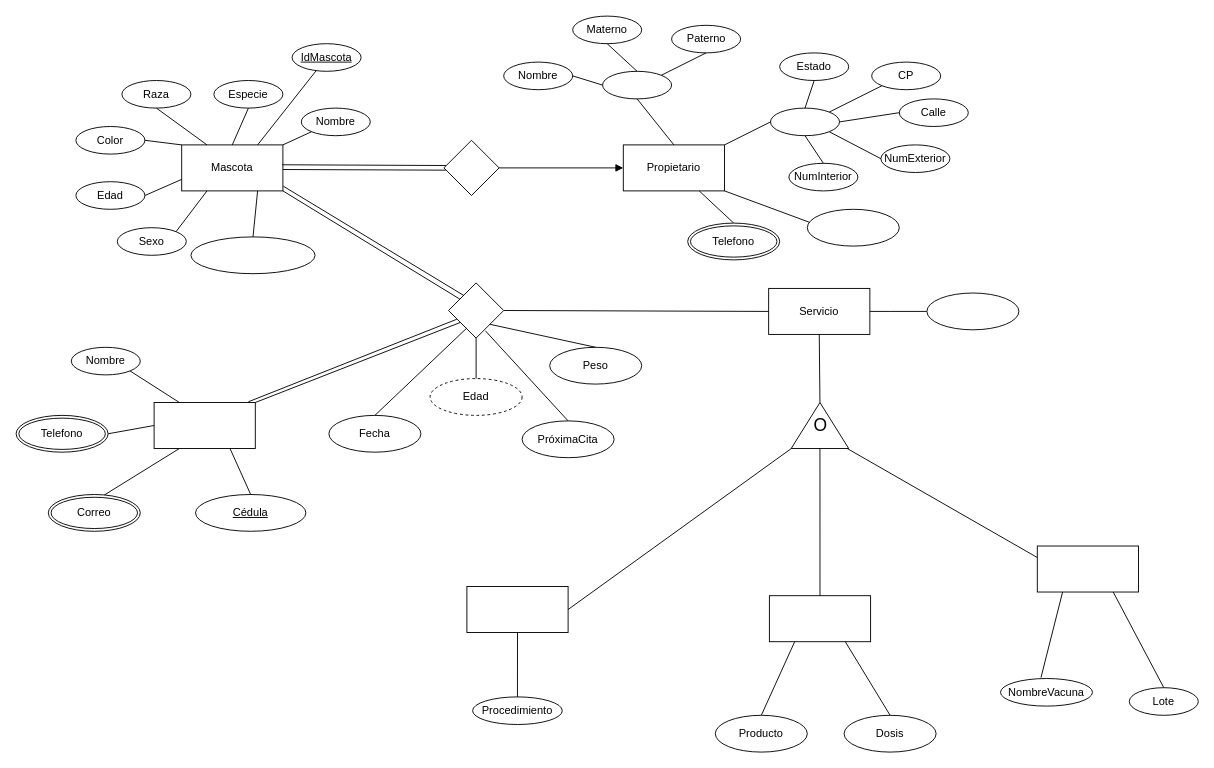
The diagram is 1214 pixels wide and 768 high, and some of its shapes have lost their labels. Each missing label, with the box of its shape:
Atender: (448, 282, 504, 338)
Consulta: (466, 586, 568, 632)
Desparacitación: (768, 595, 871, 642)
Dirección: (770, 107, 840, 136)
FechaDeNacimiento: (190, 236, 315, 274)
IdPropietario: (806, 208, 899, 246)
IdServicio: (926, 292, 1019, 330)
Médico: (153, 402, 255, 448)
NombreC: (602, 70, 672, 99)
Tener: (443, 139, 499, 196)
Vacunación: (1036, 545, 1138, 592)
